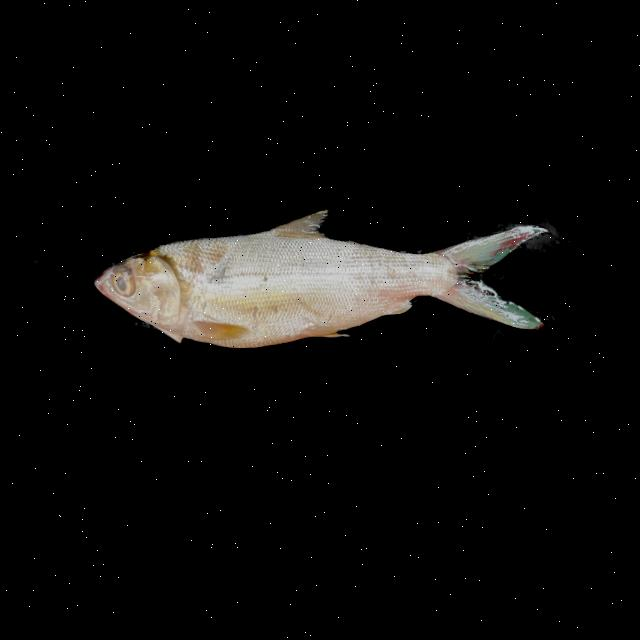530 g: (90, 192, 554, 358)
